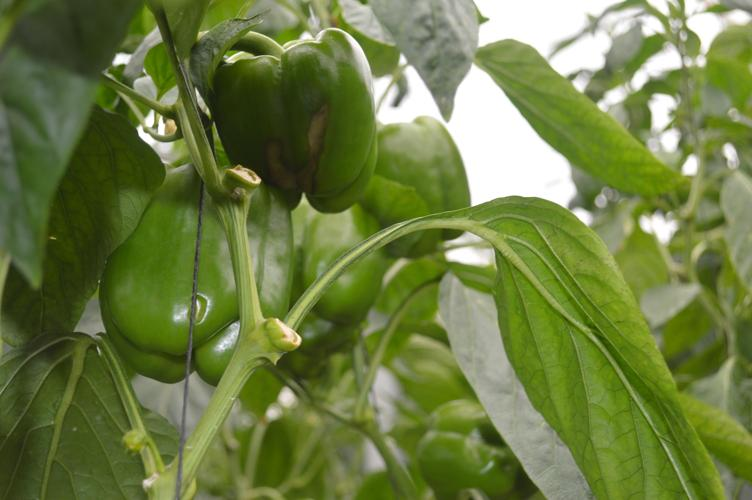BellPepper: (85, 162, 288, 383), (207, 30, 383, 212), (350, 108, 472, 257), (294, 217, 395, 338)
